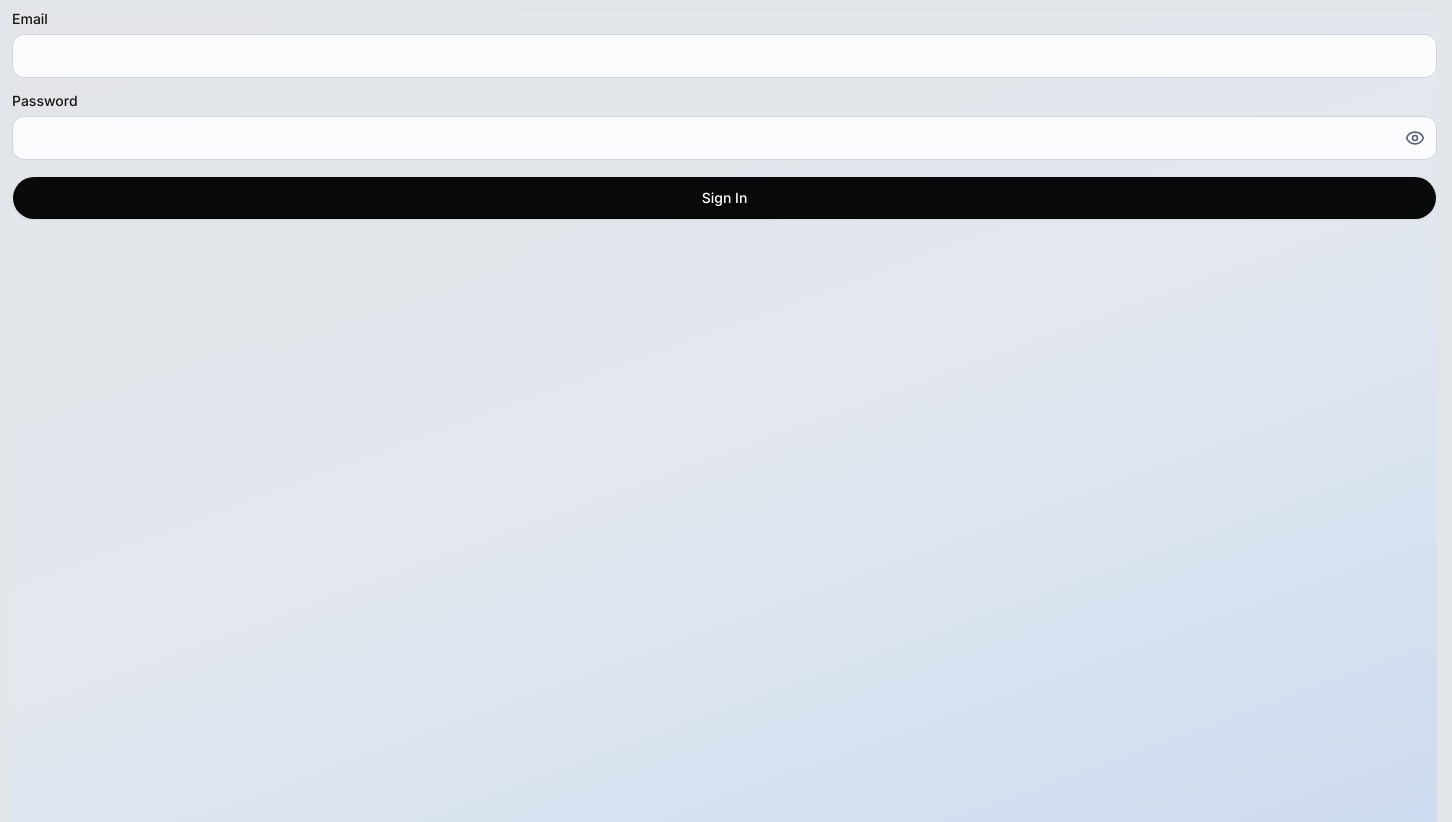
Test: LoginForm › preserves password-manager semantics and toggles the password locally
Type "login-secret" into the password field labelled "Password". click: coordinates (724, 138)
box: [12, 116, 1437, 160]
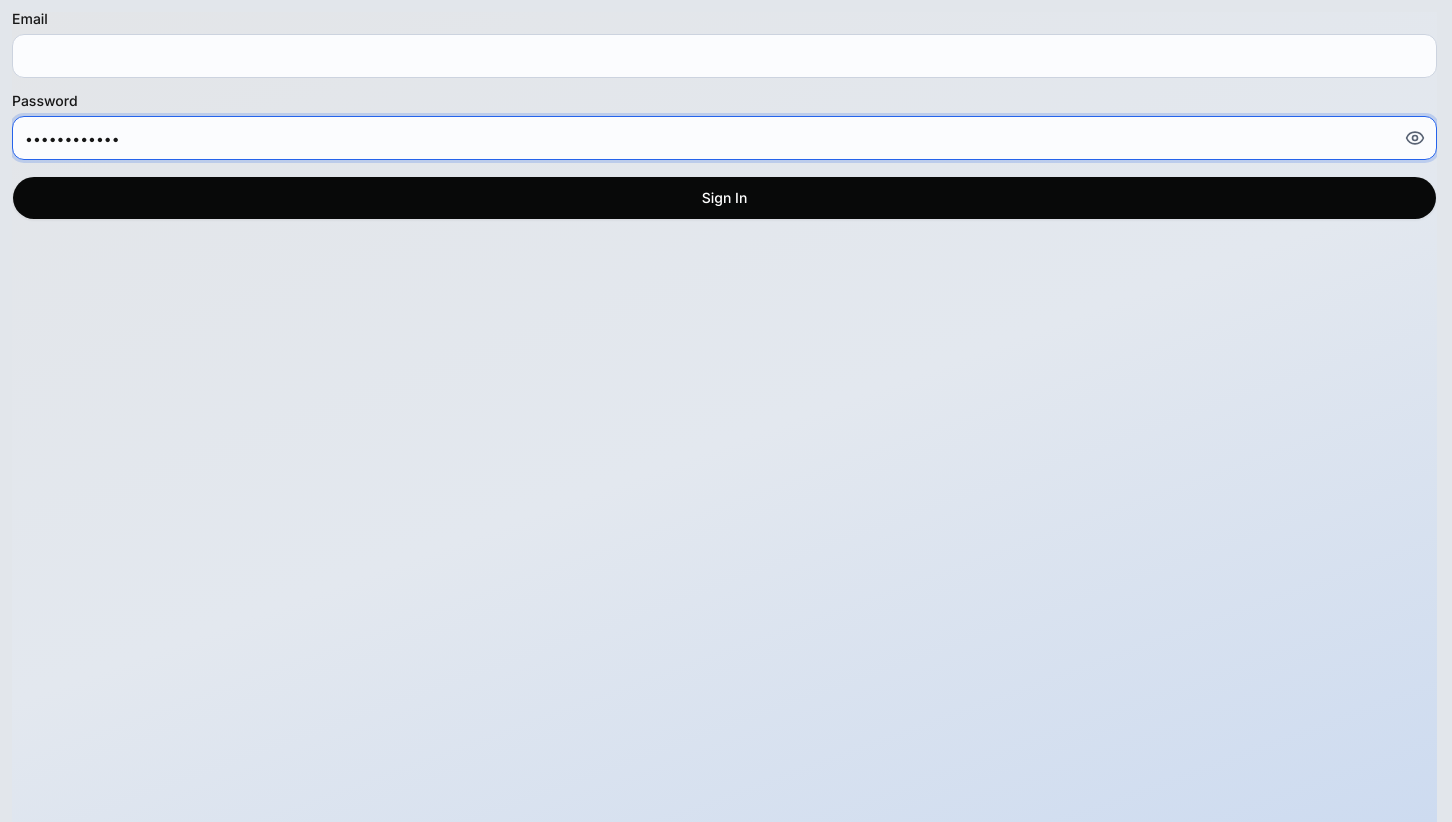
Click the button named "Show password". click: coordinates (1415, 138)
box: [1393, 116, 1437, 160]
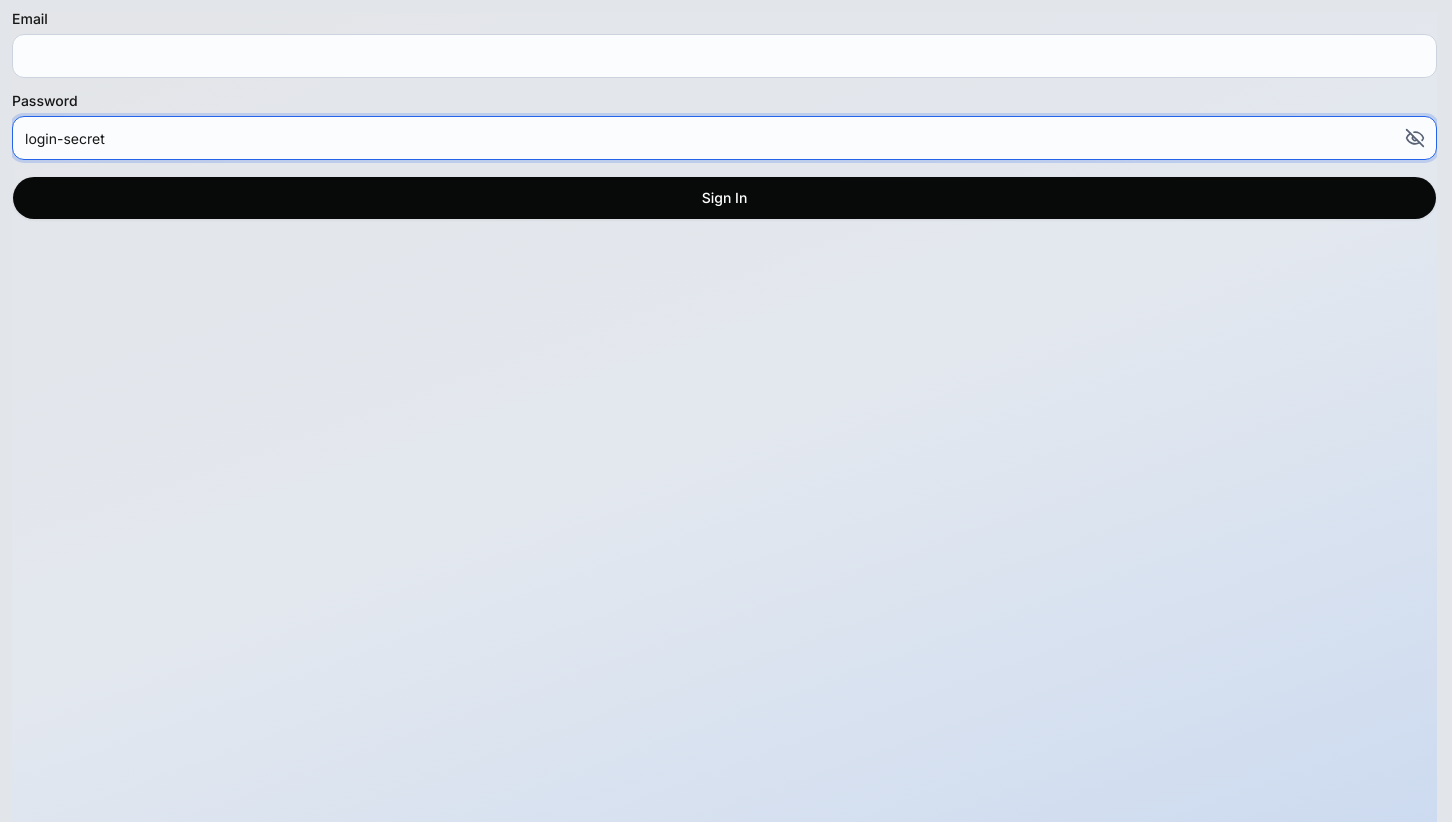
Result: the field labelled "Password" shows its text at [12, 116, 1437, 160]
Click the button named "Hide password". click: coordinates (1415, 138)
box: [1393, 116, 1437, 160]
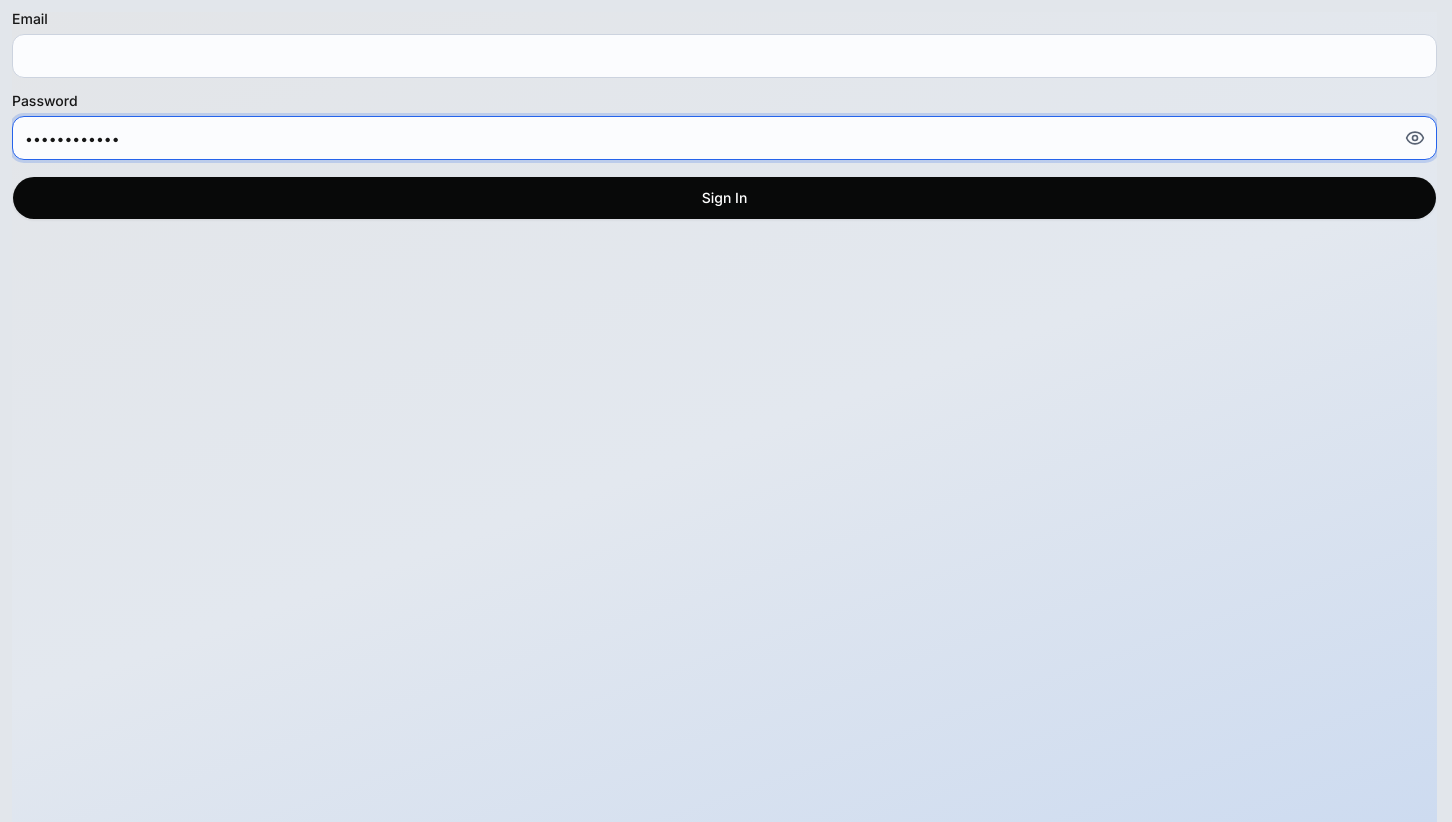
Result: the password field labelled "Password" hides its text at [12, 116, 1437, 160]
